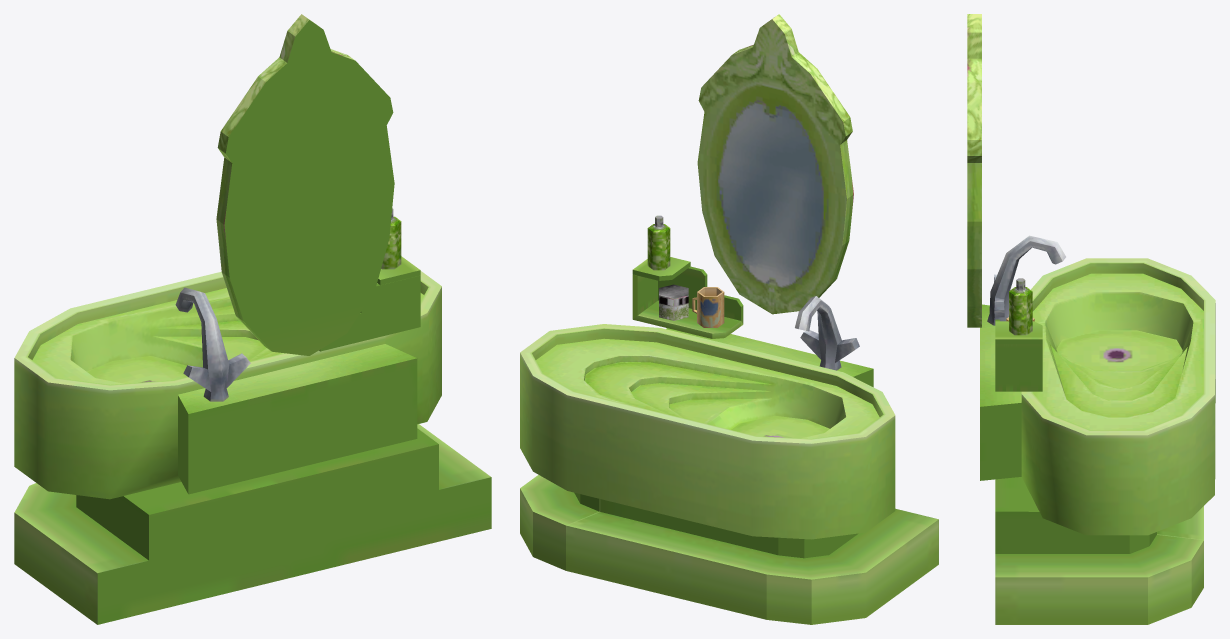
The model's file is furni_0200028-1.FBX.
3 renders of one model, left to right at view 1: azimuth 30°, elevation 25°; view 2: azimuth 150°, elevation 25°; view 3: azimuth 270°, elevation 25°, orthographic. The views are drawn at different scales.
Parts seen in each view (by area): view 1: furni_0200028-1; view 2: furni_0200028-1; view 3: furni_0200028-1.
Boxes of the visible parts, bbox=[...] form: furni_0200028-1: bbox=[14, 14, 491, 624]; furni_0200028-1: bbox=[520, 14, 938, 624]; furni_0200028-1: bbox=[967, 14, 1215, 624].
Size of the model in its own units: 146 by 201 by 86.47.
1 material, 1 textured.
